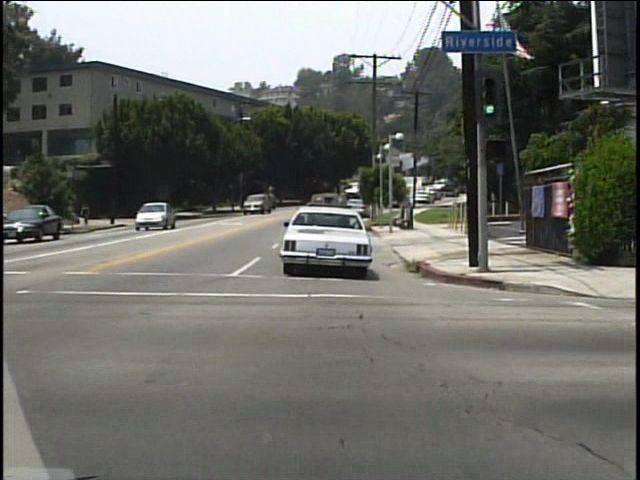person: (82, 203, 93, 227)
